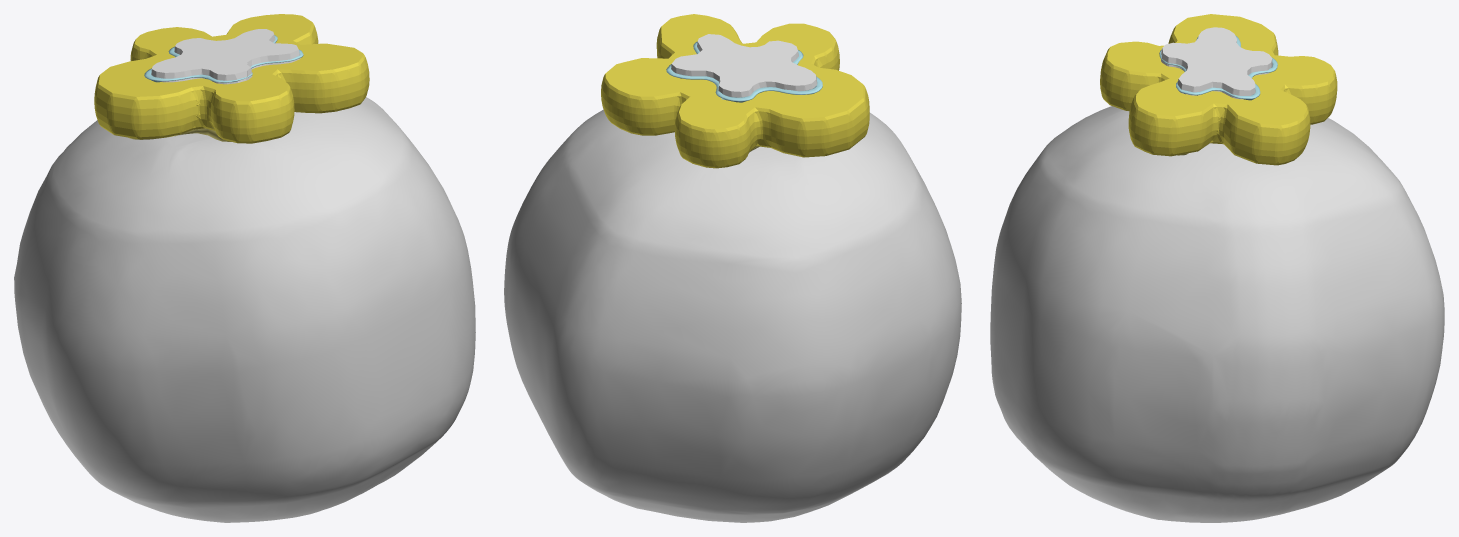
Rendered from flower24.glb.
3 views of the same model, side by side, from view 1: azimuth 30°, elevation 25°; view 2: azimuth 150°, elevation 25°; view 3: azimuth 270°, elevation 25° (orthographic). The views are drawn at different scales.
Visible parts, largest first — view 1: Cylinder.045, Plane.198, Plane.197, Plane.199; view 2: Cylinder.045, Plane.198, Plane.197, Plane.199; view 3: Cylinder.045, Plane.198, Plane.197, Plane.199.
Boxes of the visible parts, x1,y1,x2,y2 form: Cylinder.045: (14,97,475,522); Plane.198: (94,14,369,143); Plane.197: (151,29,300,136); Plane.199: (144,35,303,83); Cylinder.045: (504,109,961,522); Plane.198: (601,14,869,168); Plane.197: (671,34,817,97); Plane.199: (666,41,822,102); Cylinder.045: (990,106,1444,522); Plane.198: (1100,14,1337,165); Plane.197: (1161,27,1272,99); Plane.199: (1159,35,1277,100).
Bounding box in the file's own units: 4.54 × 4.8 × 4.57.
